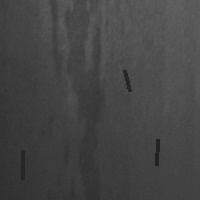inclusion: (55, 1, 108, 195), (42, 1, 72, 90), (122, 68, 131, 93), (154, 137, 159, 167), (20, 148, 24, 181)
